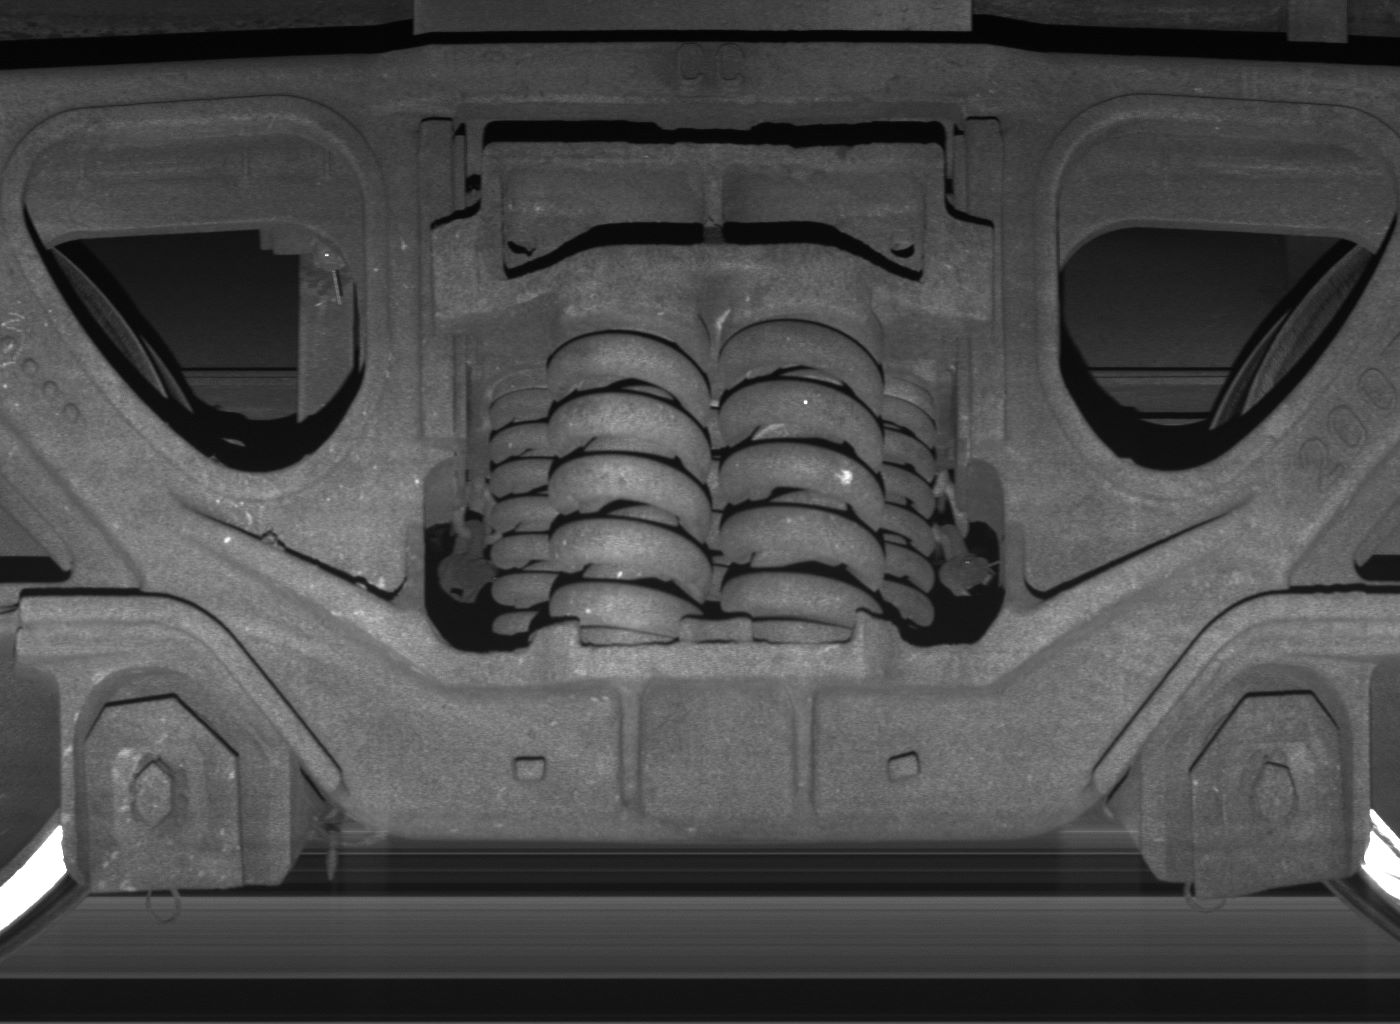Locking plate: (1141, 658, 1370, 904)
normal: (61, 669, 289, 896)
